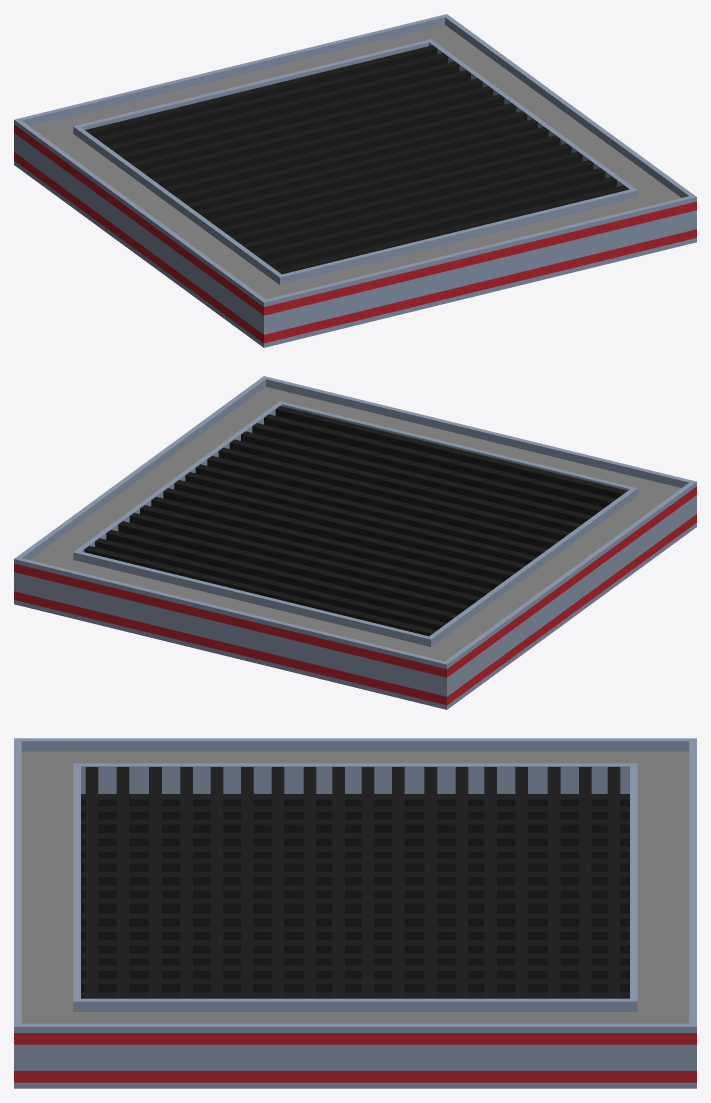
File: Platform.glb
3 renders of one model, top to bottom at view 1: azimuth 30°, elevation 25°; view 2: azimuth 150°, elevation 25°; view 3: azimuth 270°, elevation 25°, orthographic. The views are drawn at different scales.
Visible parts, largest first — view 1: Platforme; view 2: Platforme; view 3: Platforme.
Boxes of the visible parts, left/top/right/bottom form: Platforme: left=14, top=14, right=696, bottom=347; Platforme: left=14, top=376, right=696, bottom=709; Platforme: left=14, top=738, right=696, bottom=1088.
Size of what is drawn, in the model's own units: 2 by 0.2 by 2.
1 material, 1 textured.
